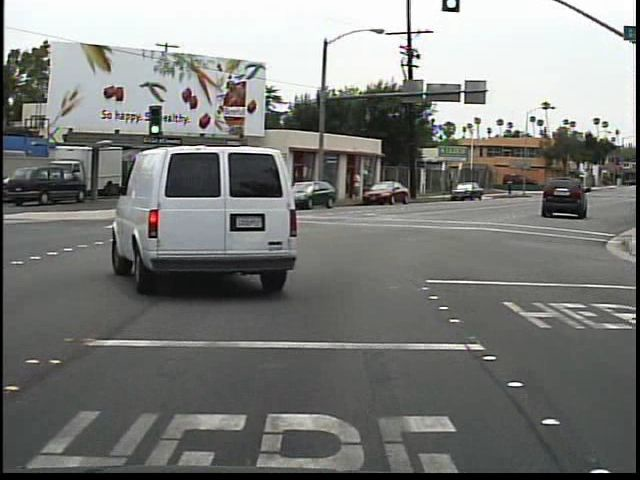person: (348, 166, 363, 201), (504, 175, 516, 198)
